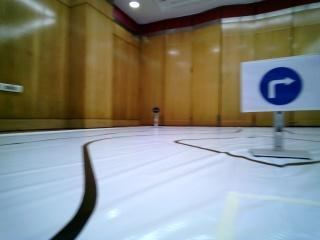right: (247, 62, 318, 107)
